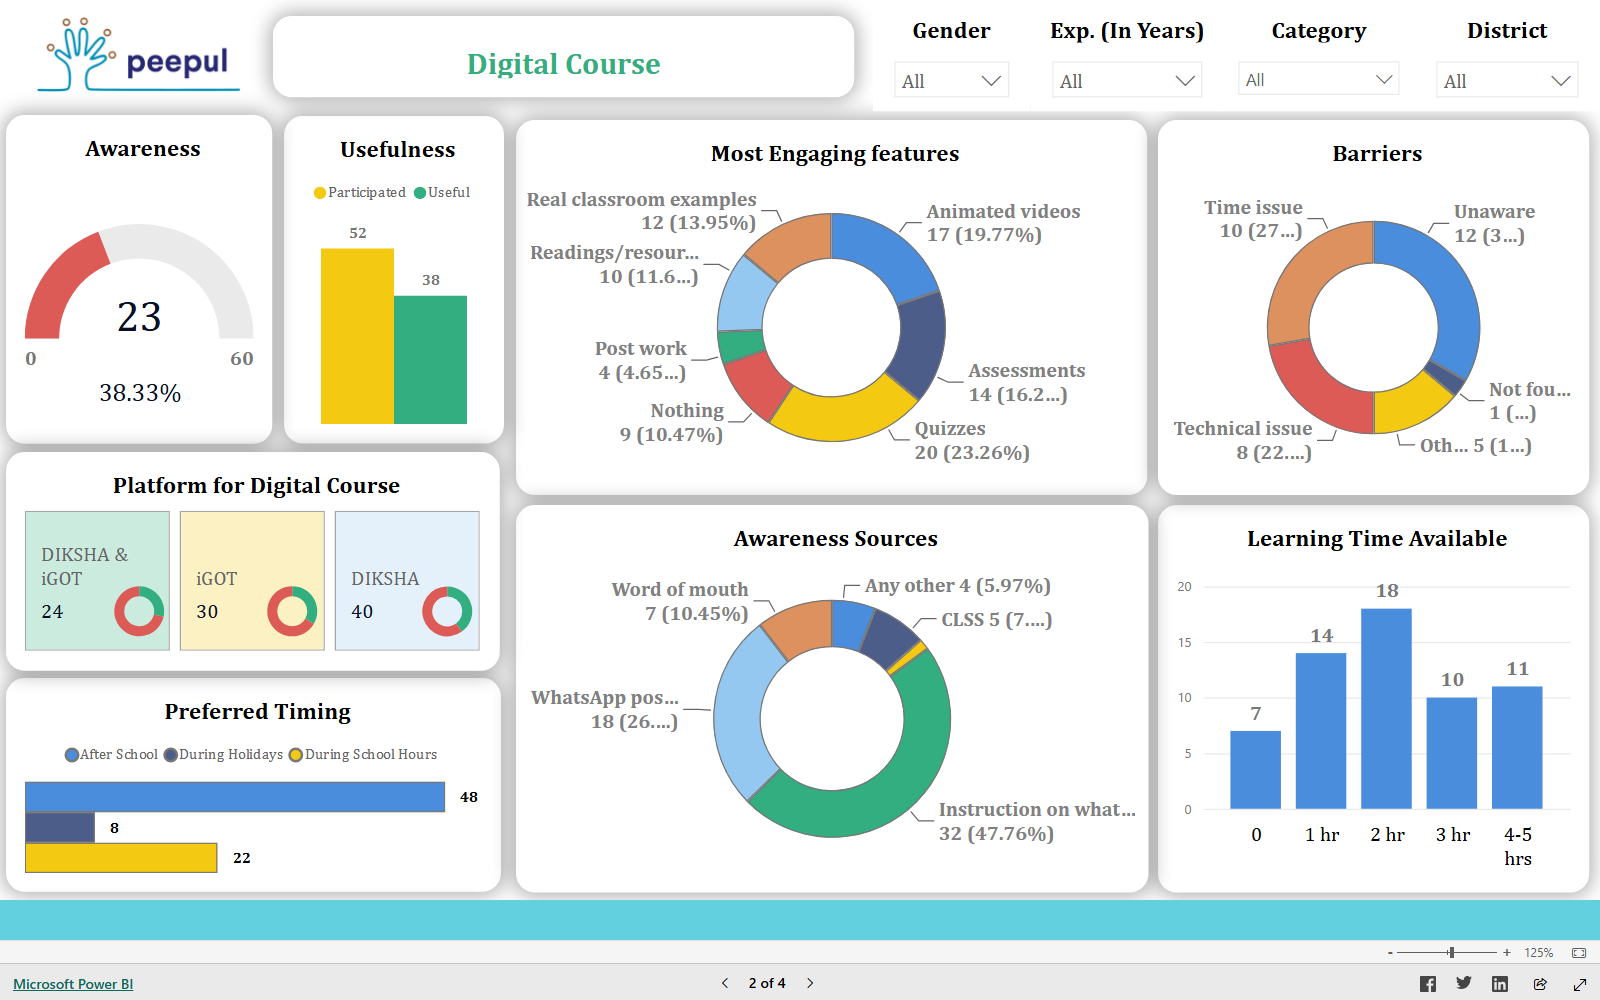

The dashboard page shown, as its layout file describes it:
{"tool":"powerbi","page":{"name":"Digital Course","canvas":[1280,720],"ordinal":1},"visuals":[{"type":"image","box":[0,0,224,96],"z":0},{"type":"slicer","title":"Gender","fields":{"Values":["Quant_Structured.Gender of respondent"]},"box":[698.8,0,125.6,88.9],"z":0,"group":"g3"},{"type":"slicer","title":"Exp. (In Years)","fields":{"Values":["Quant_Structured.Experience Category"]},"box":[825.5,0,154.4,88.9],"z":1000,"group":"g3"},{"type":"clusteredColumnChart","title":"Learning Time Available","fields":{"Category":["Quant_Structured.Digital Learning Time (Updated)"],"Y":["CountNonNull(Quant_Structured.Teacher_ID)"]},"box":[926.2,403.8,345,310],"z":1000},{"type":"slicer","title":"Category","fields":{"Values":["Quant_Structured.CategoryWise","Quant_Structured.Teacher_ID"]},"box":[974.4,0,163.3,88.9],"z":2000,"group":"g3"},{"type":"clusteredBarChart","title":"Preferred Timing","fields":{"Y":["Sum(Quant_Structured.Timing to do online or digital courses/learning/After school)","Sum(Quant_Structured.Timing to do online or digital courses/learning/During holidays or weekends)","Sum(Quant_Structured.Timing to do online or digital courses/learning/During school hours)"]},"box":[4.9,542.8,396.3,171.1],"z":2000},{"type":"slicer","title":"District","fields":{"Values":["Quant_Structured.District of respondent teacher"]},"box":[1132.1,0,147.8,88.9],"z":3000,"group":"g3"},{"type":"donutChart","title":"Most Engaging features","fields":{"Y":["Sum(Quant_Structured.Most engaging features of DIKSHA digital course/Animated videos)","Sum(Quant_Structured.Most engaging features of DIKSHA digital course/Assessments)","Sum(Quant_Structured.Most engaging features of DIKSHA digital course/Interactive questions/quizzes)","Sum(Quant_Structured.Most engaging features of DIKSHA digital course/Nothing)","Sum(Quant_Structured.Most engaging features of DIKSHA digital course/Post work)","Sum(Quant_Structured.Most engaging features of DIKSHA digital course/Readings/resources)","Sum(Quant_Structured.Most engaging features of DIKSHA digital course/Real classroom examples)"]},"box":[412.5,96.2,504.6,300],"z":3000},{"type":"donutChart","title":"Awareness Sources","fields":{"Y":["Sum(Quant_Structured.Source of information on DIKSHA digital course/Any other)","Sum(Quant_Structured.Source of information on DIKSHA digital course/CLSS)","Sum(Quant_Structured.Source of information on DIKSHA digital course/Dashboard)","Sum(Quant_Structured.Source of information on DIKSHA digital course/JSK Instruction on whatsapp group)","Sum(Quant_Structured.Source of information on DIKSHA digital course/VC)","Sum(Quant_Structured.Source of information on DIKSHA digital course/WhatsApp posters)","Sum(Quant_Structured.Source of information on DIKSHA digital course/Word of mouth)"]},"box":[412.5,403.8,505.8,310],"z":4000},{"type":"donutChart","title":"Barriers","fields":{"Y":["Sum(Quant_Structured.Reason for not doing DIKSHA course/Not aware)","Sum(Quant_Structured.Reason for not doing DIKSHA course/Not found useful)","Sum(Quant_Structured.Reason for not doing DIKSHA course/Other engagement)","Sum(Quant_Structured.Reason for not doing DIKSHA course/Technical issue)","Sum(Quant_Structured.Reason for not doing DIKSHA course/Time issue)"]},"box":[926.2,96.2,345,300],"z":5000},{"type":"gauge","title":"Awareness","fields":{"MaxValue":["Quant_Structured.Gauge max"],"MinValue":["Quant_Structured.Gauge Min"],"Y":["Quant_Structured.Awareness Gauge Indicator"]},"box":[4.9,92.1,213.2,263.1],"z":6000,"group":"g1"},{"type":"clusteredColumnChart","title":"Usefulness","fields":{"Category":["Training.Training"],"Y":["Training.Participated","Training.Useful"]},"box":[227,92.4,176,262.4],"z":6000},{"type":"cardVisual","fields":{"Data":["Quant_Structured.title Digital Course"]},"box":[202.7,12.4,266.7,64],"z":7000},{"type":"group","id":"g1","title":"Group 1","box":[4.9,92.1,213.2,263.1],"z":8000},{"type":"cardVisual","title":"Platform for Digital Course","fields":{"Data":["Sum(Quant_Structured.Diksha & iGOT)","Sum(Quant_Structured.iGOT)","Sum(Quant_Structured.DIKSHA)"]},"box":[4.9,361.8,395.1,174.8],"z":8000,"group":"g2"},{"type":"group","id":"g2","title":"Group 2","box":[4.9,361.8,395.1,174.8],"z":9000},{"type":"group","id":"g3","title":"Group 1","box":[698.8,0,581.2,88.8],"z":10000},{"type":"donutChart","fields":{"Y":["Sum(Quant_Structured.Diksha & iGOT)","CountNonNull(Quant_Structured.Teacher_ID)"]},"box":[74.7,452.6,74,74],"z":11000,"group":"g2"},{"type":"actionButton","box":[485.6,17.5,90,54.9],"z":12000},{"type":"donutChart","fields":{"Y":["Sum(Quant_Structured.iGOT)","CountNonNull(Quant_Structured.Teacher_ID)"]},"box":[196.8,452.6,74,74],"z":12000,"group":"g2"},{"type":"actionButton","box":[578.3,17.8,130,55.1],"z":13000},{"type":"donutChart","fields":{"Y":["Sum(Quant_Structured.DIKSHA)","CountNonNull(Quant_Structured.Teacher_ID)"]},"box":[320.5,452.2,74,74.2],"z":13000,"group":"g2"},{"type":"cardVisual","fields":{"Data":["Quant_Structured.Awareness Yes %"]},"box":[38.1,262.1,149.3,93],"z":13001,"group":"g1"}]}

Visuals, with their boxes on the page's 1280x720 design canvas (x1, y1, x2, y2). These are canvas units, not pixel positions in the 1600x1000 screenshot, which may show the page scaled, cropped or inside an application window:
image: bbox=(0, 0, 224, 96)
"Gender" slicer: bbox=(699, 0, 824, 89)
"Exp. (In Years)" slicer: bbox=(826, 0, 980, 89)
"Learning Time Available" clusteredColumnChart: bbox=(926, 404, 1271, 714)
"Category" slicer: bbox=(974, 0, 1138, 89)
"Preferred Timing" clusteredBarChart: bbox=(5, 543, 401, 714)
"District" slicer: bbox=(1132, 0, 1280, 89)
"Most Engaging features" donutChart: bbox=(412, 96, 917, 396)
"Awareness Sources" donutChart: bbox=(412, 404, 918, 714)
"Barriers" donutChart: bbox=(926, 96, 1271, 396)
"Awareness" gauge: bbox=(5, 92, 218, 355)
"Usefulness" clusteredColumnChart: bbox=(227, 92, 403, 355)
cardVisual - Quant_Structured.title Digital Course: bbox=(203, 12, 469, 76)
"Group 1" group: bbox=(5, 92, 218, 355)
"Platform for Digital Course" cardVisual: bbox=(5, 362, 400, 537)
"Group 2" group: bbox=(5, 362, 400, 537)
"Group 1" group: bbox=(699, 0, 1280, 89)
donutChart - Sum(Quant_Structured.Diksha & iGOT) x CountNonNull(Quant_Structured.Teacher_ID): bbox=(75, 453, 149, 527)
actionButton: bbox=(486, 18, 576, 72)
donutChart - Sum(Quant_Structured.iGOT) x CountNonNull(Quant_Structured.Teacher_ID): bbox=(197, 453, 271, 527)
actionButton: bbox=(578, 18, 708, 73)
donutChart - Sum(Quant_Structured.DIKSHA) x CountNonNull(Quant_Structured.Teacher_ID): bbox=(320, 452, 394, 526)
cardVisual - Quant_Structured.Awareness Yes %: bbox=(38, 262, 187, 355)
